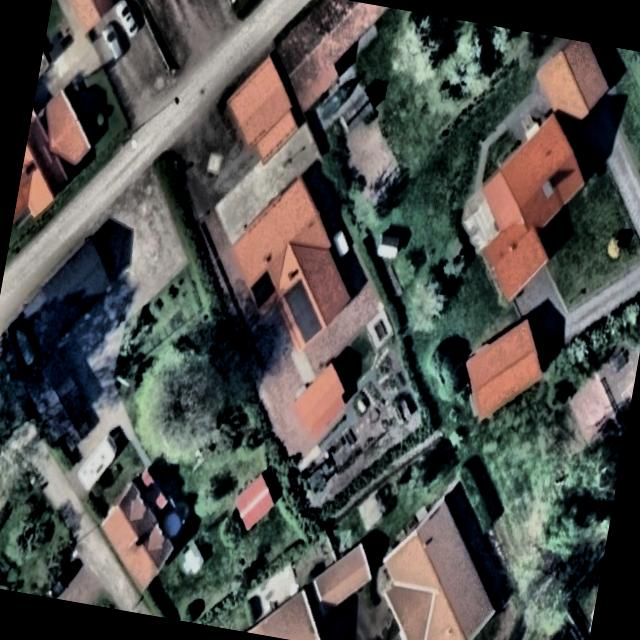roof_pv: (276, 275, 332, 346)
